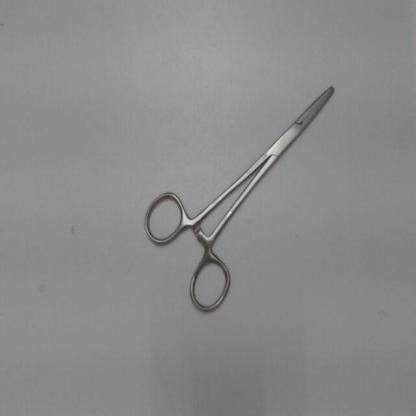Mayo Needle Holder: (135, 74, 348, 325)
